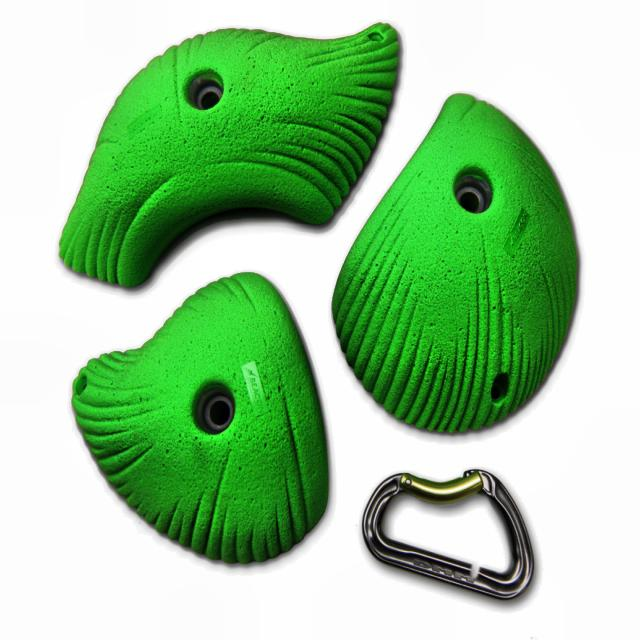Hold: (23, 1, 441, 323), (316, 73, 623, 467), (41, 243, 360, 601)
